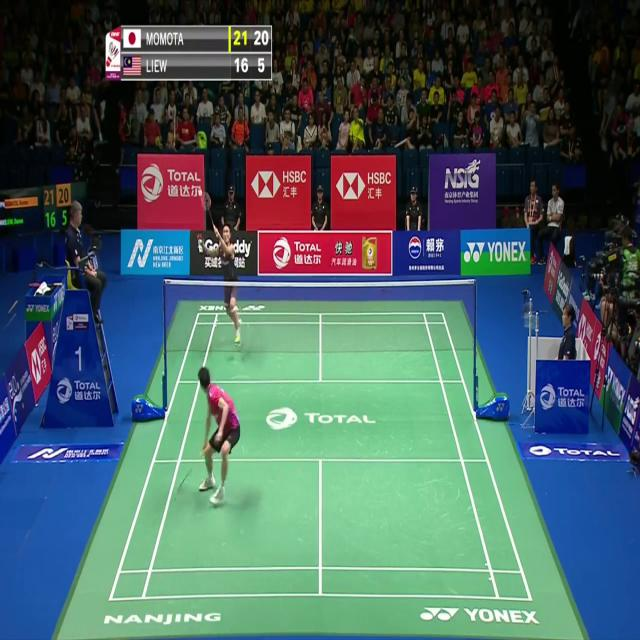Shuttlecock: (197, 186, 204, 198)
